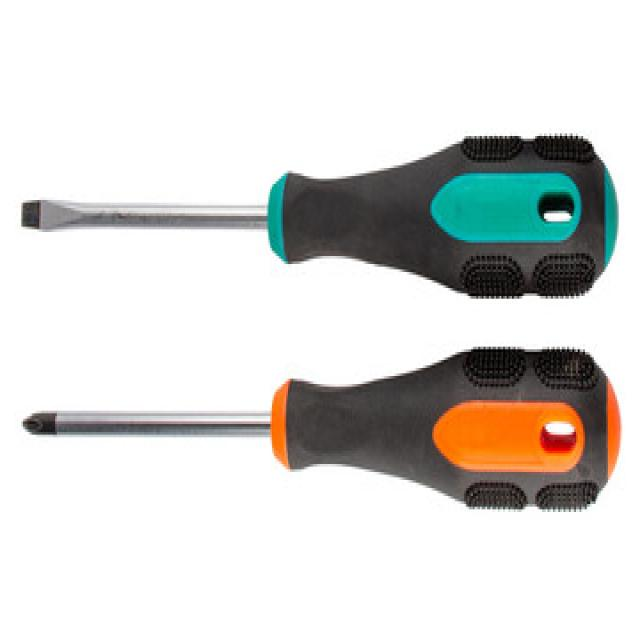screwdriver: (19, 130, 618, 298), (22, 344, 620, 512)
